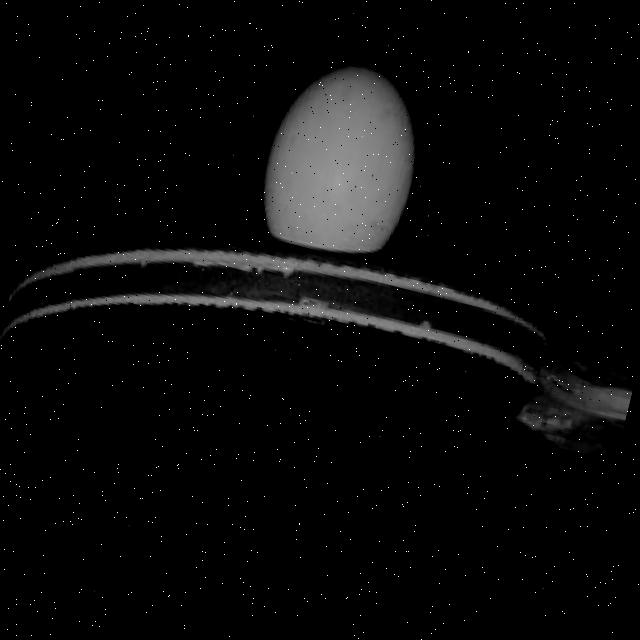ping-pong-ball: (250, 54, 437, 266)
